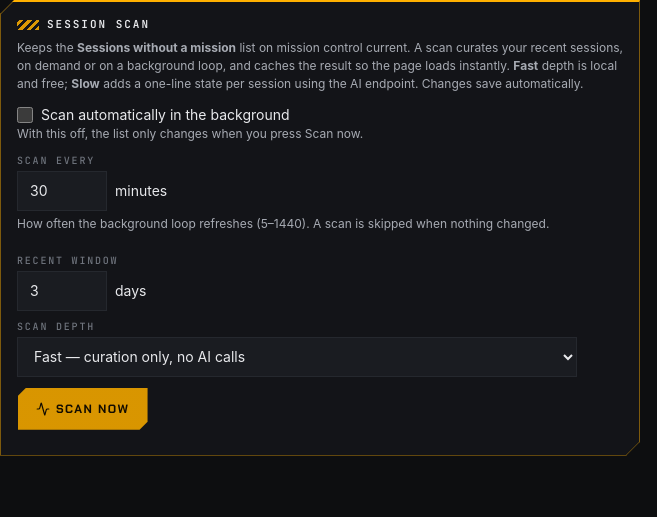
Test case: the window commits on blur within bounds; out-of-range reverts (#441 P6, #1086)
Replace the text in the number field labelled "Recent window" with "2" at (62, 291), box [17,271,107,311]
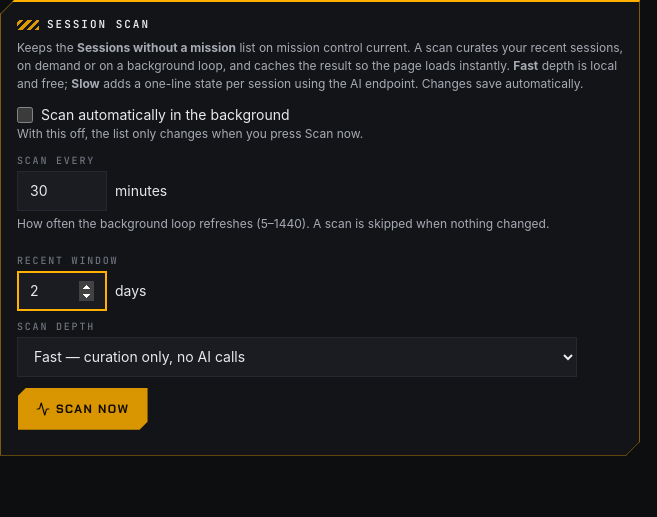
Press Tab
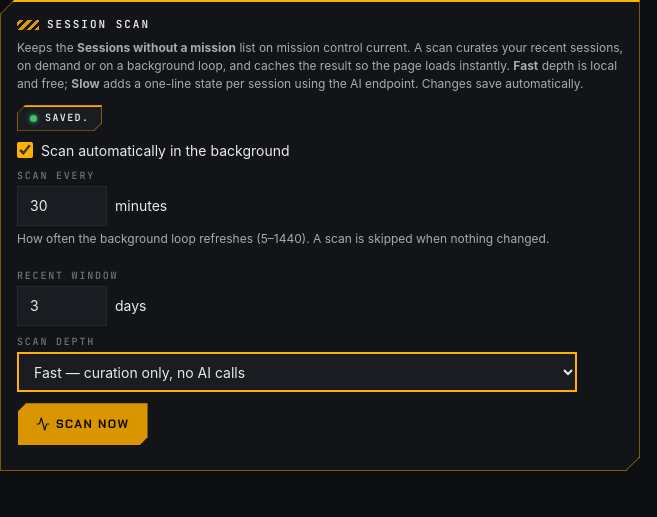
Replace the text in the number field labelled "Recent window" with "7" at (62, 306), box [17,286,107,326]
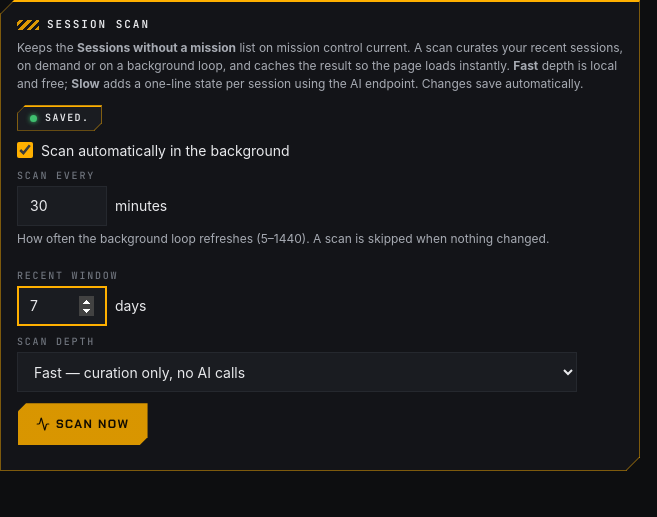
Press Tab
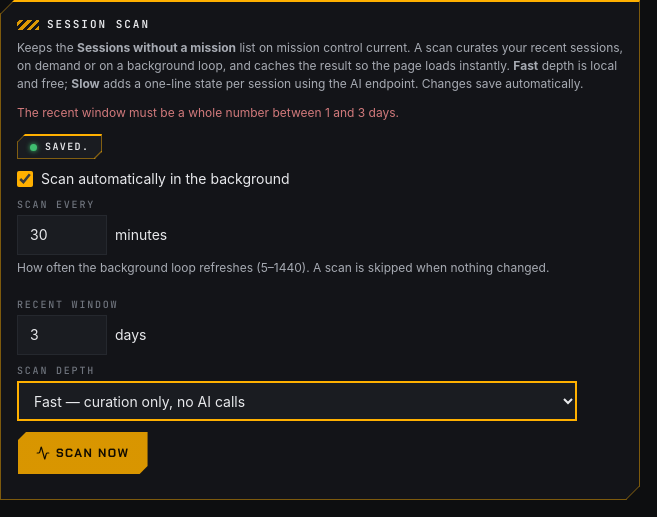
Now the number field labelled "Recent window" holds "3", box [17,315,107,355]
Now the text "between 1 and 3 days" is shown, box [17,105,399,120]
